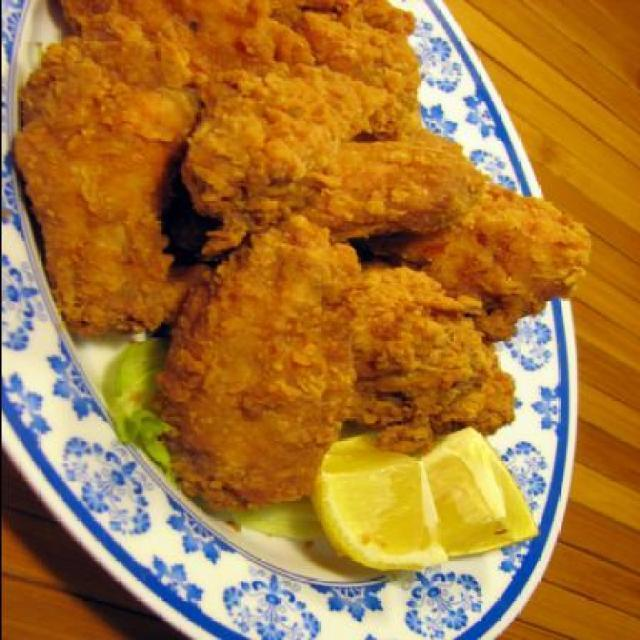Chicken: (44, 1, 567, 464)
